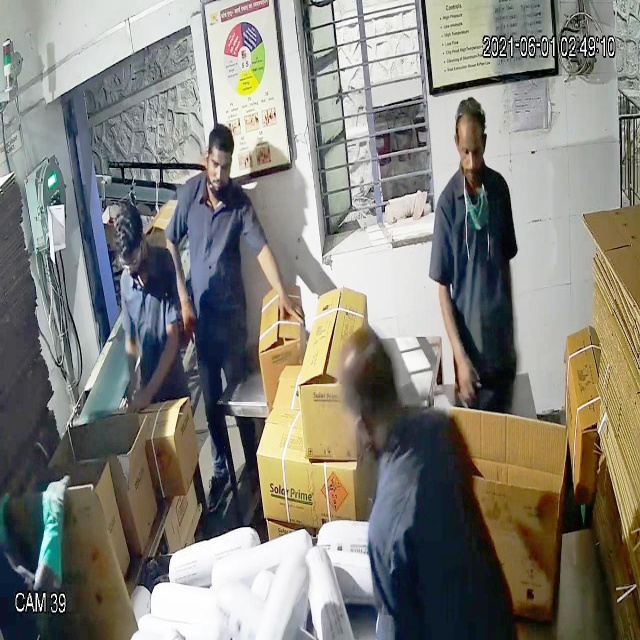Gafas: (116, 242, 148, 276)
Sin_gafas: (450, 137, 491, 168), (201, 156, 233, 180)
